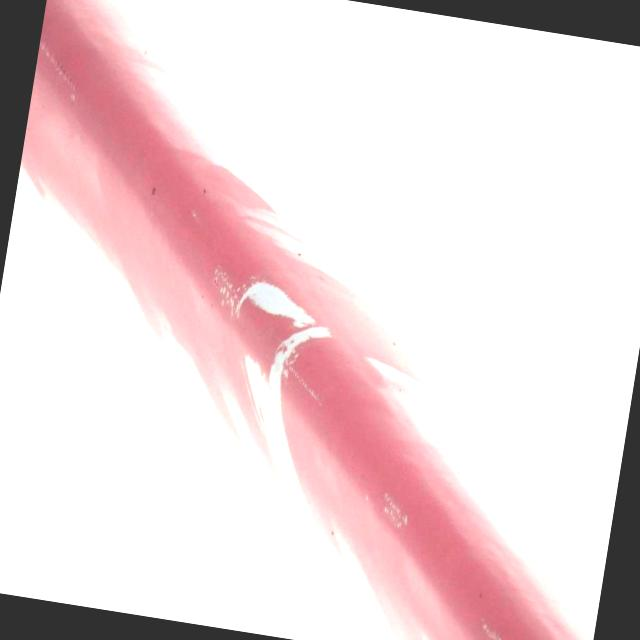surface_peeling: (195, 270, 358, 536)
